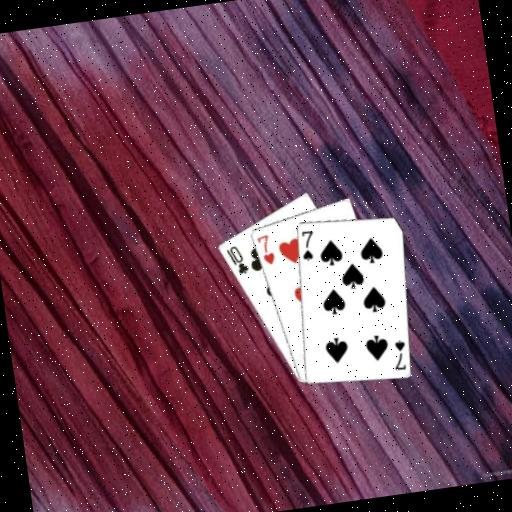10C: (223, 241, 251, 278)
7H: (253, 231, 277, 268)
7S: (387, 336, 410, 373), (296, 227, 318, 263)
